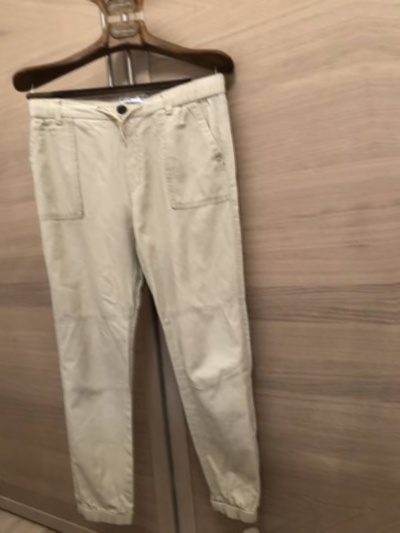Pants: (0, 34, 307, 533), (0, 0, 240, 4), (48, 533, 370, 533)
